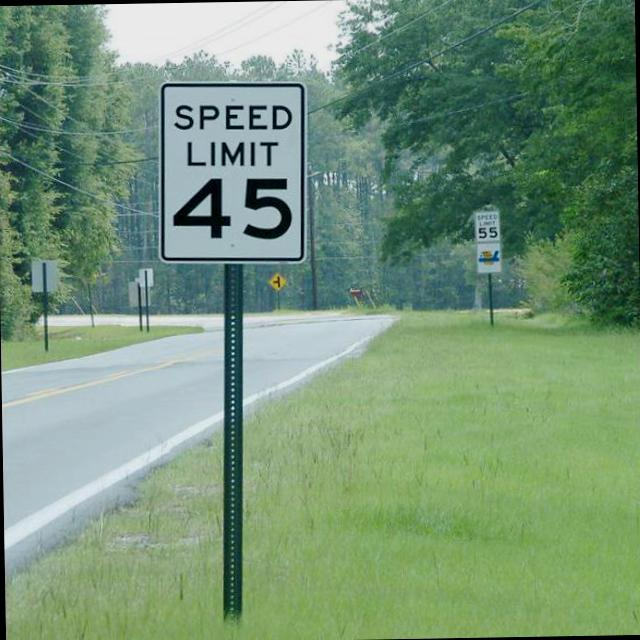Speed Limit Signs: (156, 76, 313, 266), (475, 204, 502, 248)
